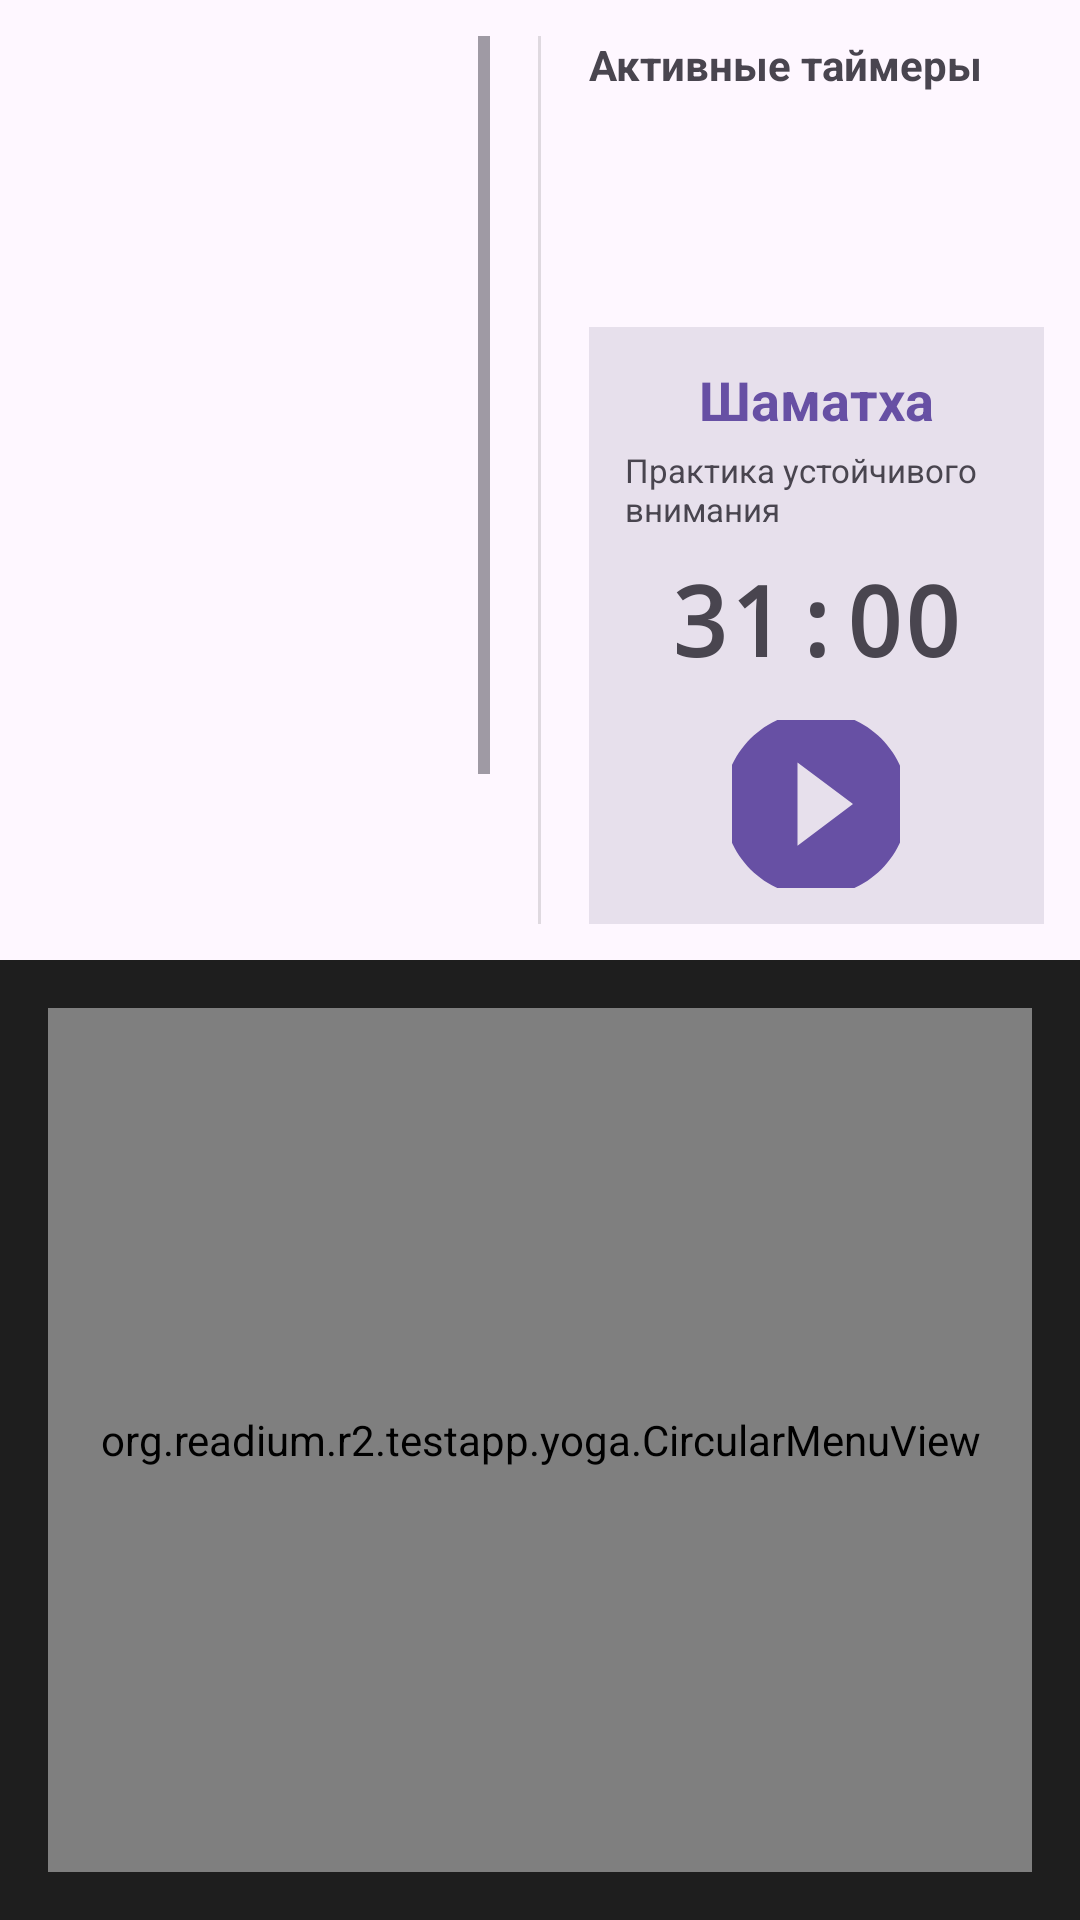

Icon click points for this 1080x1920 phone screenshot, format (x=x, y=y):
Запустить: (x=816, y=804)
